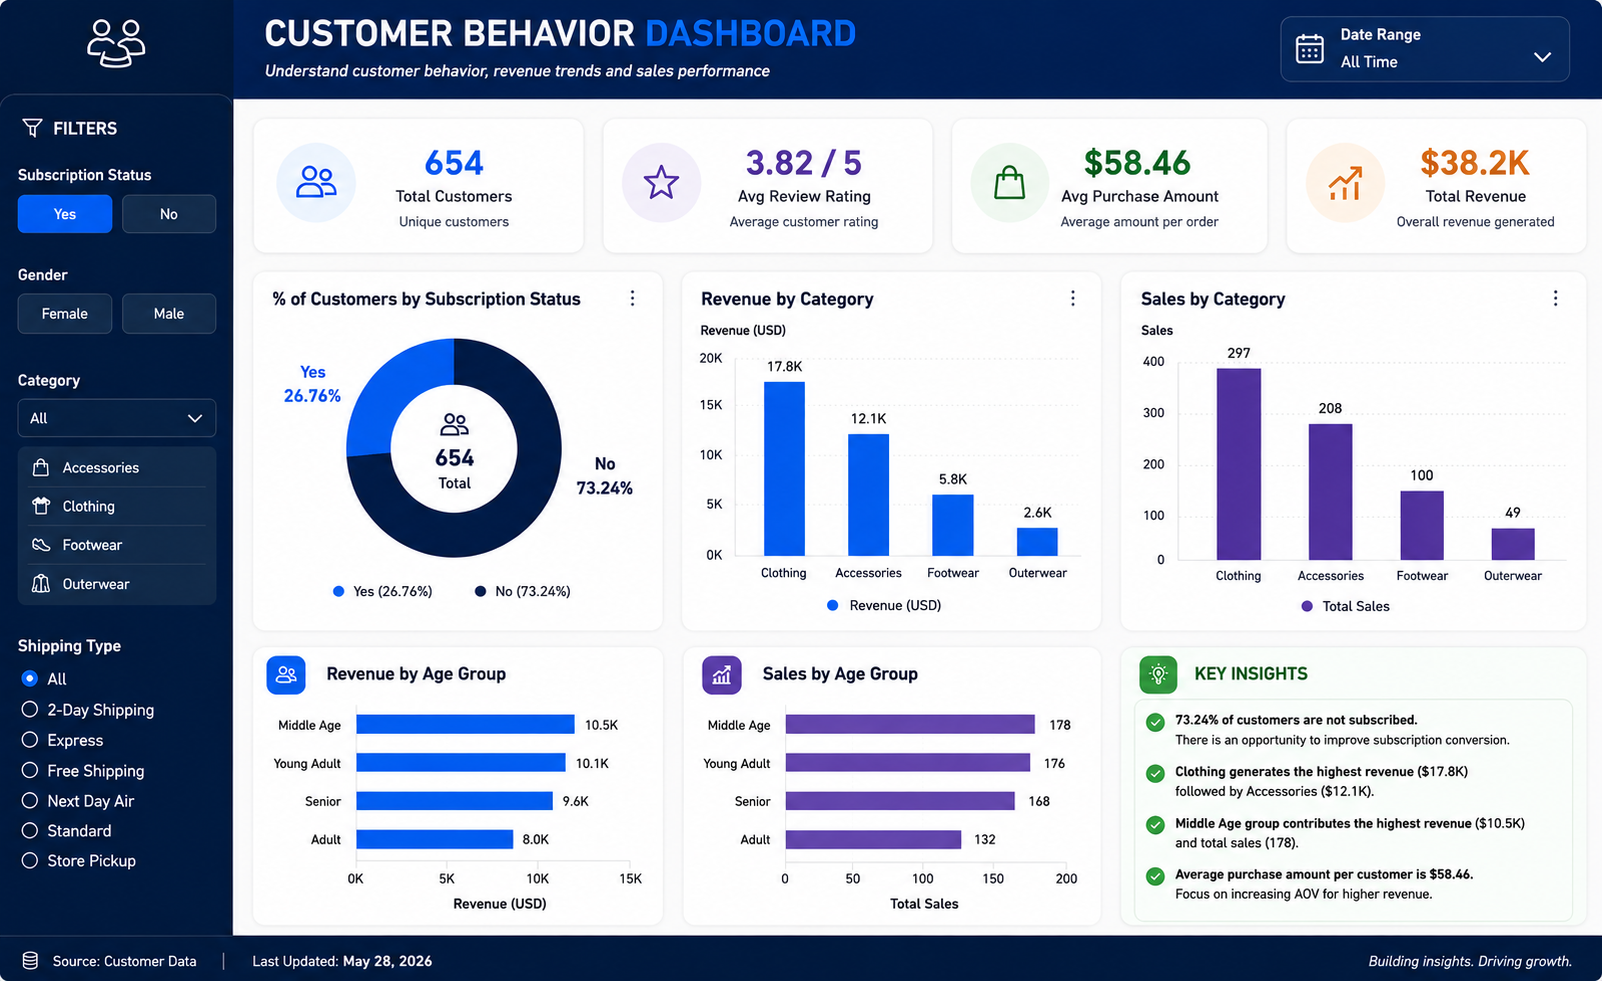

What the dashboard file says about the page in this screenshot:
{"tool":"powerbi","page":{"name":"Page 1","canvas":[1500,922],"ordinal":0},"visuals":[{"type":"cardVisual","fields":{"Data":["customer_behavior customer_behavior_data.number of customers","customer_behavior customer_behavior_data.Avg Review Rating","customer_behavior customer_behavior_data.Average Purchase Amount"]},"box":[238,102,1260,146],"z":0},{"type":"shape","box":[0,0,1498,88],"z":1000},{"type":"textbox","box":[0,0,1418,88],"z":2000},{"type":"shape","box":[225.9,238.9,418.5,338.9],"z":3000},{"type":"donutChart","title":"% of customer_id by subscription status","fields":{"Category":["customer_behavior customer_behavior_data.subscription_status"],"Y":["CountNonNull(customer_behavior customer_behavior_data.customer_id)"]},"box":[253.7,264.8,368.5,298.1],"z":4000},{"type":"shape","box":[1070.4,244.4,427.8,338.9],"z":5000},{"type":"clusteredColumnChart","title":"revenue by category status","fields":{"Y":["Sum(customer_behavior customer_behavior_data.purchase_amount)"],"Category":["customer_behavior customer_behavior_data.category"]},"box":[661.1,268.5,387,296.3],"z":6000},{"type":"clusteredColumnChart","title":"sales by category status","fields":{"Y":["CountNonNull(customer_behavior customer_behavior_data.customer_id)"],"Category":["customer_behavior customer_behavior_data.category"]},"box":[1092.6,263,383.3,300],"z":7000},{"type":"shape","box":[0,87.2,229.8,831.9],"z":8000},{"type":"advancedSlicerVisual","title":"Subscription status","fields":{"Values":["customer_behavior customer_behavior_data.subscription_status"]},"box":[25.5,117,178.7,83],"z":9000},{"type":"advancedSlicerVisual","fields":{"Values":["customer_behavior customer_behavior_data.category"]},"box":[10.6,297.9,208.5,334],"z":10000},{"type":"advancedSlicerVisual","fields":{"Values":["customer_behavior customer_behavior_data.gender"]},"box":[25.5,204.3,178.7,80.9],"z":11000},{"type":"listSlicer","title":"Shipping type","fields":{"Values":["customer_behavior customer_behavior_data.shipping_type"]},"box":[14.9,631.9,200,263.8],"z":12000},{"type":"clusteredBarChart","title":"Revenue by age group","fields":{"Y":["Sum(customer_behavior customer_behavior_data.purchase_amount)"],"Category":["customer_behavior customer_behavior_data.age_group"]},"box":[253.7,600,598.1,288.9],"z":13000},{"type":"shape","box":[225.9,572.2,633.3,346.3],"z":14000},{"type":"shape","box":[855.6,577.8,644.4,338.9],"z":15000},{"type":"shape","box":[640.7,244.4,431.5,335.2],"z":16000},{"type":"clusteredBarChart","title":"Sales age group","fields":{"Category":["customer_behavior customer_behavior_data.age_group"],"Y":["CountNonNull(customer_behavior customer_behavior_data.customer_id)"]},"box":[874.1,600,607.4,288.9],"z":17000}]}

Visuals, with their boxes in screenshot pixels (x1, y1, x2, y2), scaled from the page's 1500x922 canvas onto the 1602x981 screenshot:
cardVisual - customer_behavior customer_behavior_data.number of customers x customer_behavior customer_behavior_data.Avg Review Rating: left=254, top=109, right=1600, bottom=264
shape: left=0, top=0, right=1600, bottom=94
textbox: left=0, top=0, right=1514, bottom=94
shape: left=241, top=254, right=688, bottom=615
"% of customer_id by subscription status" donutChart: left=271, top=282, right=665, bottom=599
shape: left=1143, top=260, right=1600, bottom=621
"revenue by category status" clusteredColumnChart: left=706, top=286, right=1119, bottom=601
"sales by category status" clusteredColumnChart: left=1167, top=280, right=1576, bottom=599
shape: left=0, top=93, right=245, bottom=978
"Subscription status" advancedSlicerVisual: left=27, top=124, right=218, bottom=213
advancedSlicerVisual - customer_behavior customer_behavior_data.category: left=11, top=317, right=234, bottom=672
advancedSlicerVisual - customer_behavior customer_behavior_data.gender: left=27, top=217, right=218, bottom=303
"Shipping type" listSlicer: left=16, top=672, right=230, bottom=953
"Revenue by age group" clusteredBarChart: left=271, top=638, right=910, bottom=946
shape: left=241, top=609, right=918, bottom=977
shape: left=914, top=615, right=1601, bottom=975
shape: left=684, top=260, right=1145, bottom=617
"Sales age group" clusteredBarChart: left=934, top=638, right=1582, bottom=946
